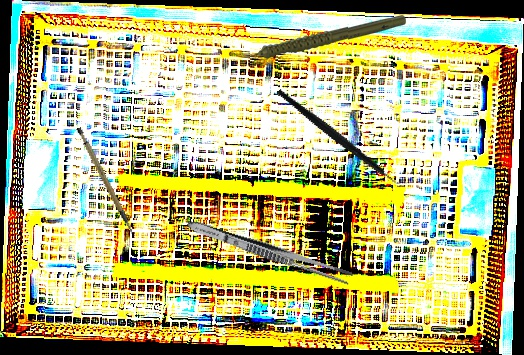Chopper: (276, 57, 410, 218)
Dressing Forceps: (184, 216, 355, 287)
Handpiece: (231, 11, 408, 63)
Scalpel Handle: (75, 122, 134, 240)
